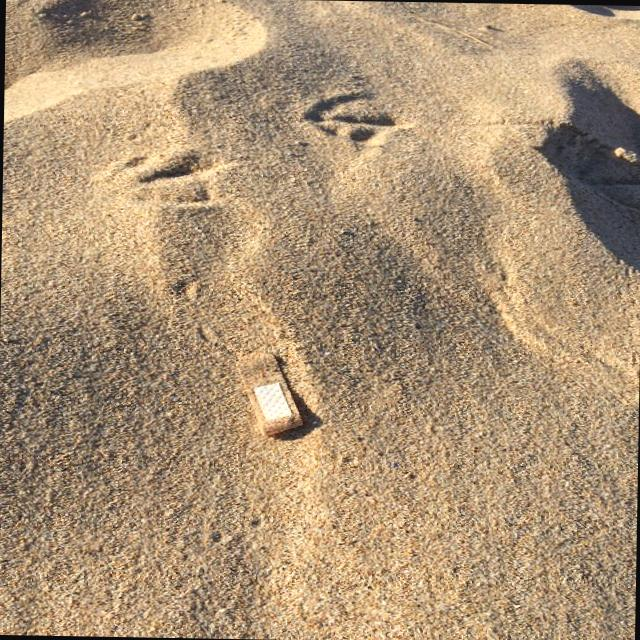Trash: (232, 344, 310, 436)
